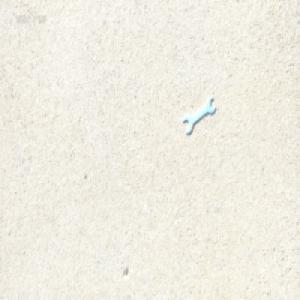Wrench: (182, 98, 213, 134)
